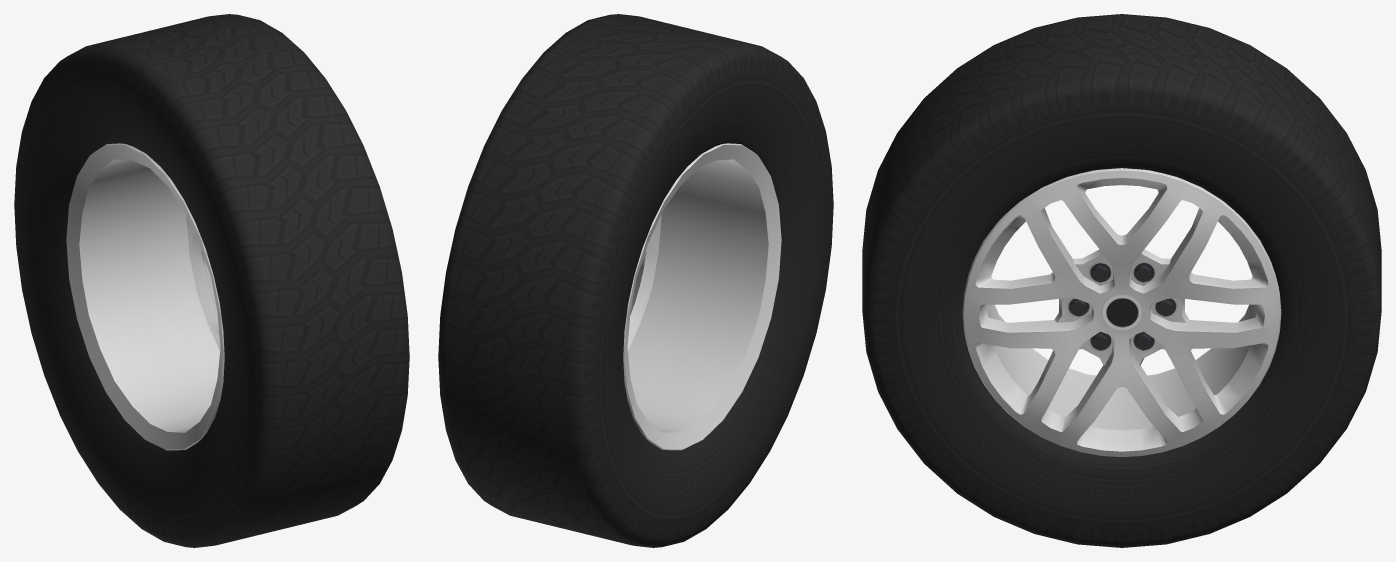
The model's file is RealisticCar04_HD_Wheel.FBX.
3 renders of one model, left to right at view 1: azimuth 30°, elevation 25°; view 2: azimuth 150°, elevation 25°; view 3: azimuth 270°, elevation 25°, orthographic.
Visible parts, largest first — view 1: Wheel_Front_Left_LOD0; view 2: Wheel_Front_Left_LOD0; view 3: Wheel_Front_Left_LOD0.
Part boxes in pixels (bbox=[...]): Wheel_Front_Left_LOD0: bbox=[14, 14, 409, 547]; Wheel_Front_Left_LOD0: bbox=[438, 14, 833, 547]; Wheel_Front_Left_LOD0: bbox=[862, 14, 1381, 547].
Size of what is drawn, in the model's own units: 0.3329 by 0.9712 by 0.9712.
Materials: 1 (1 with a texture image).
